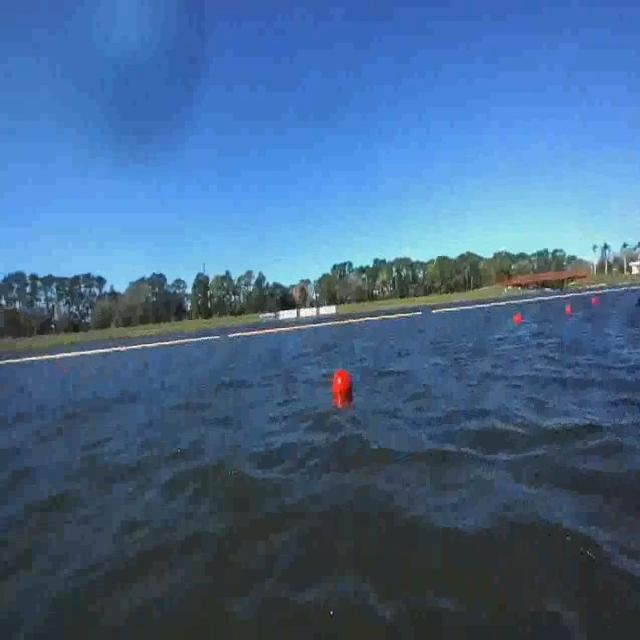red-buoy: (334, 370, 352, 396), (514, 313, 524, 326), (592, 296, 600, 306)
yellow-buoy: (58, 424, 66, 437)
